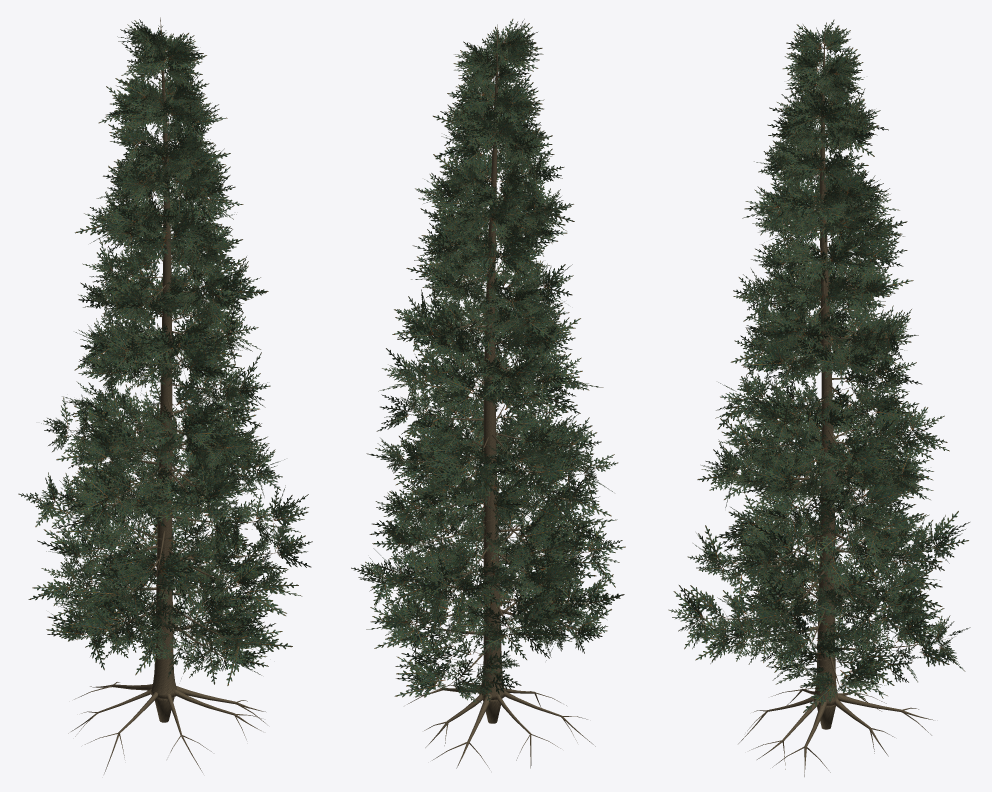
File: tree_southwest_mixed_overstory_004.glb
3 renders of one model, left to right at view 1: azimuth 30°, elevation 25°; view 2: azimuth 150°, elevation 25°; view 3: azimuth 270°, elevation 25°, orthographic.
Visible parts, largest first — view 1: tree.southwest_mixed.overstory.004.foliage.001, tree.southwest_mixed.overstory.004.wood.001, tree.southwest_mixed.overstory.004.roots.001; view 2: tree.southwest_mixed.overstory.004.foliage.001, tree.southwest_mixed.overstory.004.wood.001, tree.southwest_mixed.overstory.004.roots.001; view 3: tree.southwest_mixed.overstory.004.foliage.001, tree.southwest_mixed.overstory.004.wood.001, tree.southwest_mixed.overstory.004.roots.001.
Boxes of the visible parts, box(x1,y1,x2,y2) form: tree.southwest_mixed.overstory.004.foliage.001: box(18, 19, 312, 685); tree.southwest_mixed.overstory.004.wood.001: box(37, 17, 288, 698); tree.southwest_mixed.overstory.004.roots.001: box(68, 682, 265, 773); tree.southwest_mixed.overstory.004.foliage.001: box(351, 19, 625, 703); tree.southwest_mixed.overstory.004.wood.001: box(370, 25, 602, 699); tree.southwest_mixed.overstory.004.roots.001: box(407, 682, 595, 768); tree.southwest_mixed.overstory.004.foliage.001: box(668, 19, 970, 712); tree.southwest_mixed.overstory.004.wood.001: box(686, 30, 952, 705); tree.southwest_mixed.overstory.004.roots.001: box(738, 688, 933, 776).
Size of the model in its own units: 3.38 by 9.29 by 3.67.
Materials: 2 (2 with a texture image).
